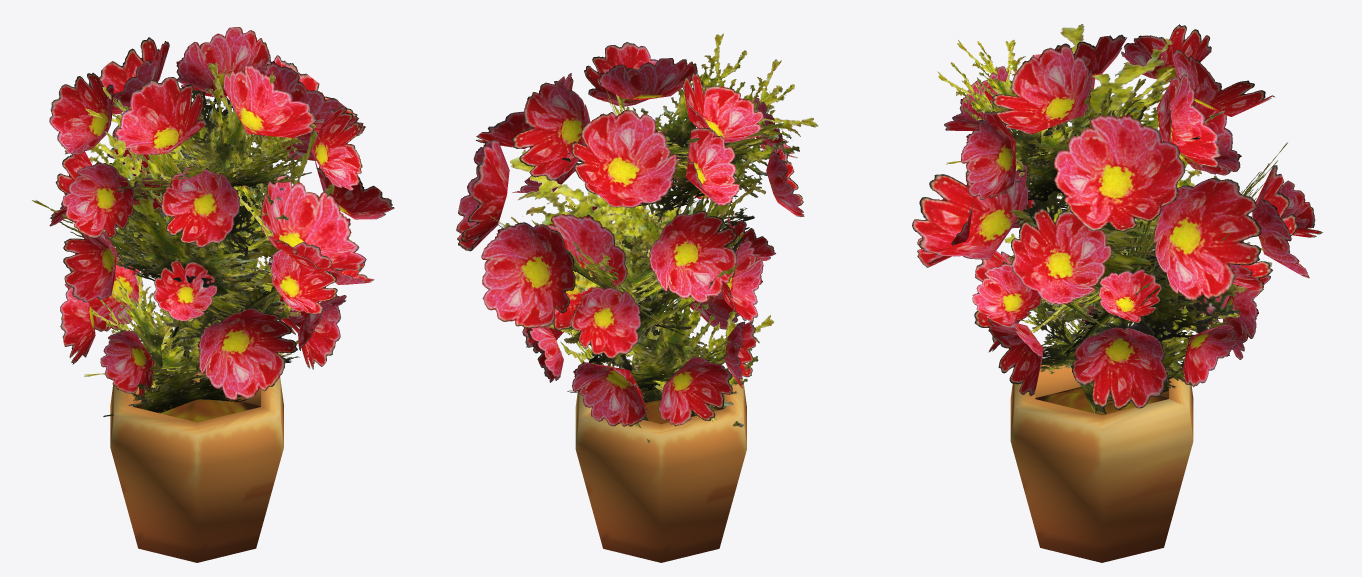
File: flower_pot_red_2.DAE
3 views of the same model, side by side, from view 1: azimuth 30°, elevation 25°; view 2: azimuth 150°, elevation 25°; view 3: azimuth 270°, elevation 25° (orthographic). The views are drawn at different scales.
Visible parts, largest first — view 1: Plane01; view 2: Plane01; view 3: Plane01.
Part boxes in pixels (x1,y1,x2,y2): Plane01: (32, 27, 394, 562); Plane01: (456, 33, 818, 562); Plane01: (912, 24, 1322, 562).
Bounding box in the file's own units: 0.7561 × 1.06 × 0.8704.
